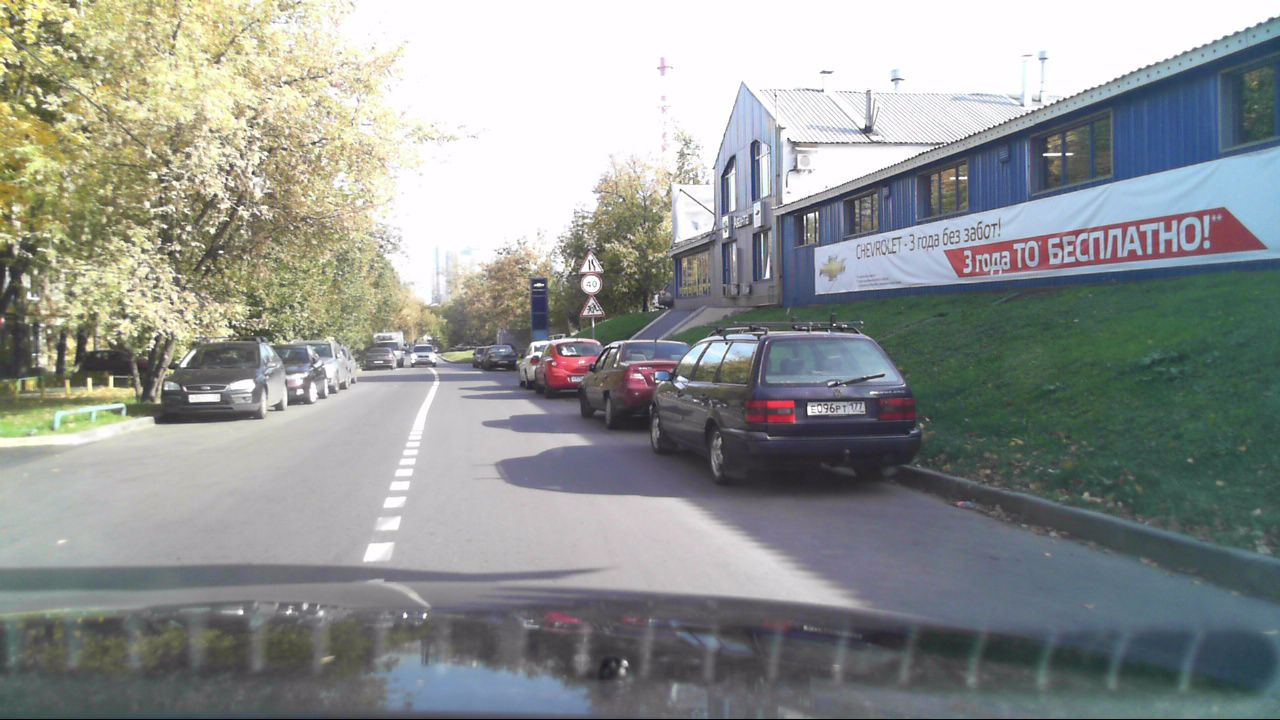speed_warning_40: (578, 274, 604, 297)
